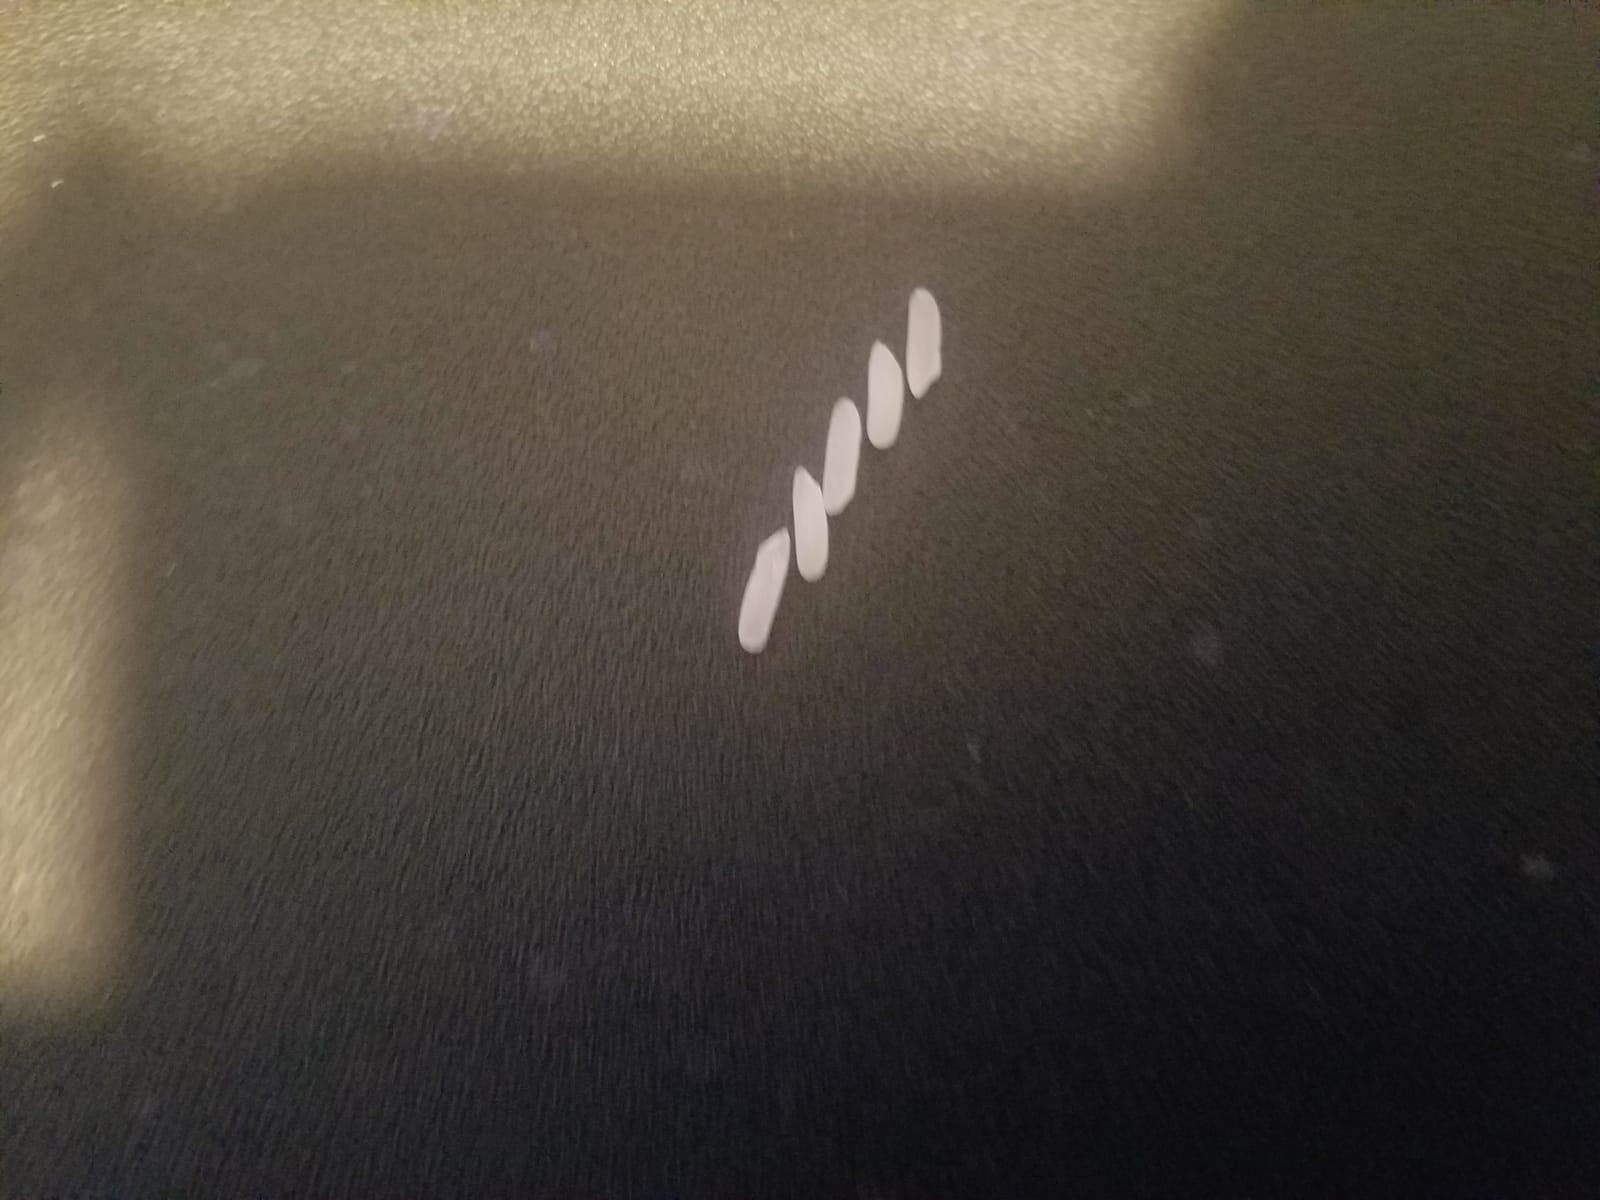egg: (731, 527, 789, 653), (789, 466, 831, 582), (820, 393, 859, 519), (906, 279, 946, 395), (863, 340, 902, 451)
